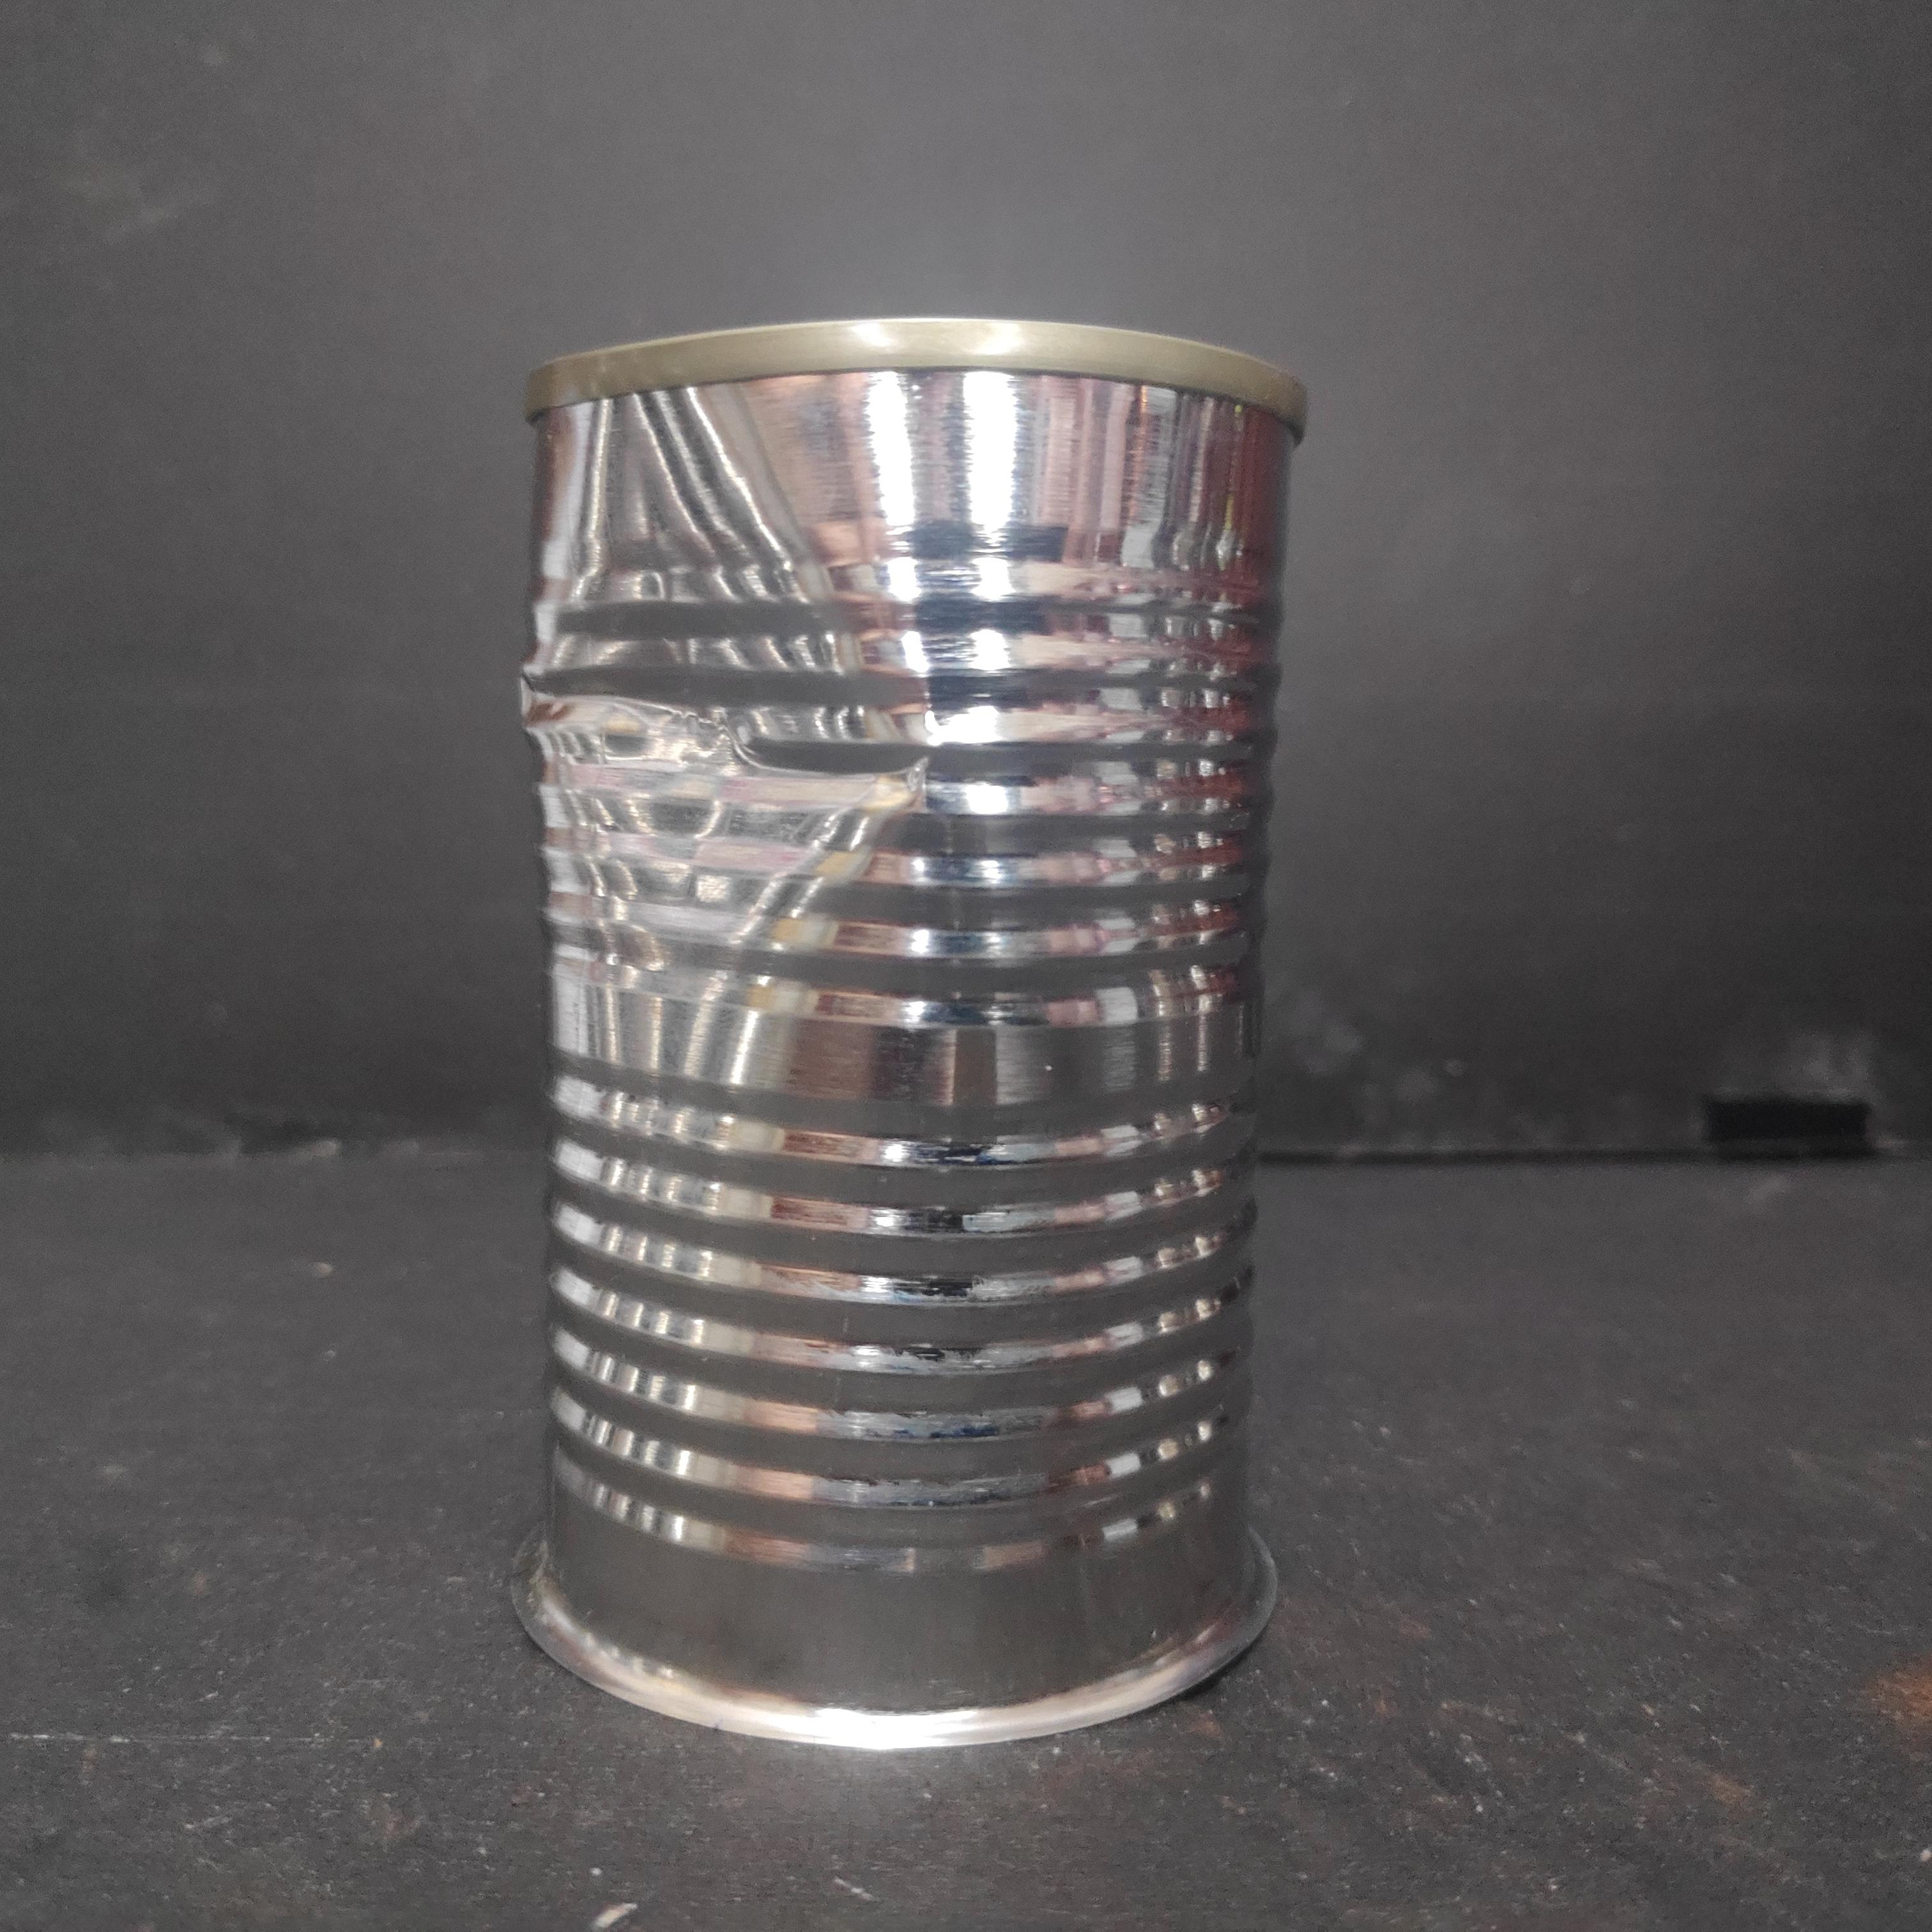Minor Defect: (506, 301, 1321, 1768)
